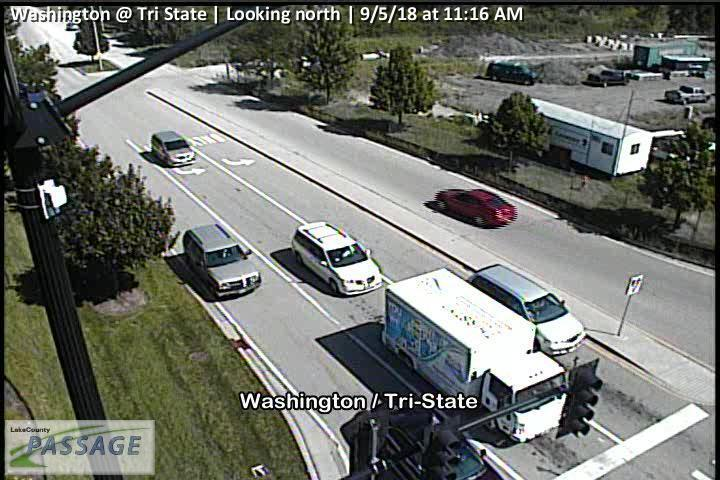SUV: (467, 264, 589, 354), (290, 220, 384, 297), (182, 222, 263, 299), (150, 129, 197, 166), (485, 60, 541, 85)
Sedan: (434, 185, 518, 231)
Truck: (380, 267, 569, 444), (664, 84, 711, 105), (582, 68, 631, 88)
